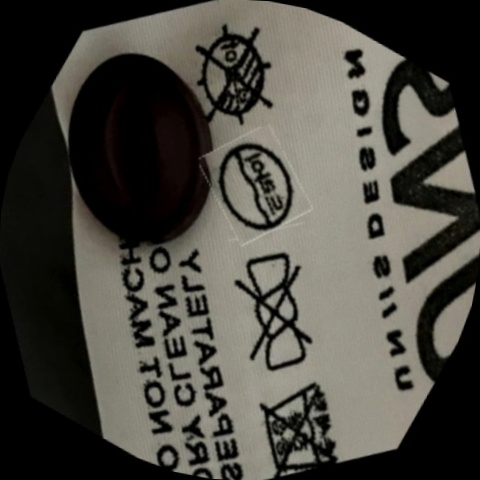DN_dry: (162, 4, 306, 148)
DN_wring: (193, 233, 354, 394)
dry_clean: (189, 120, 320, 253)
hand_wash: (231, 352, 370, 480)
